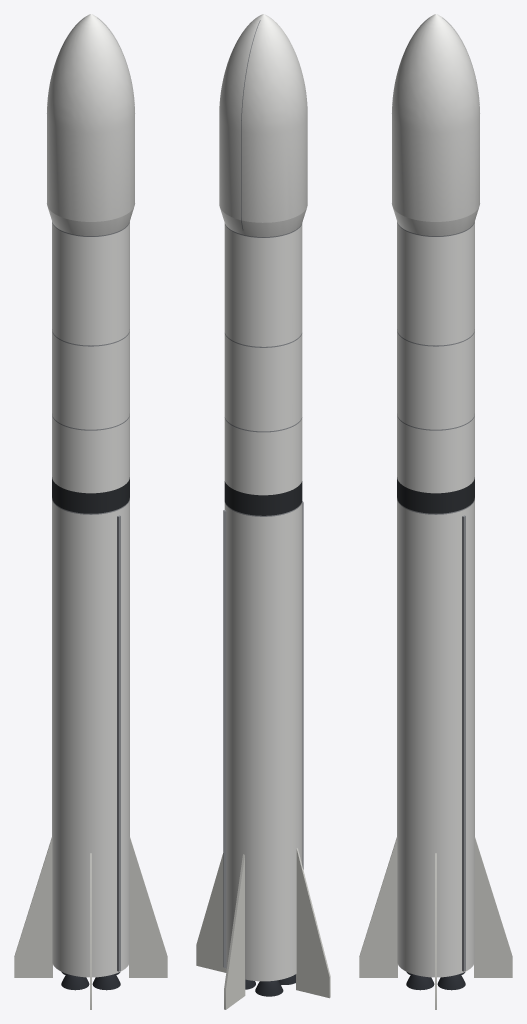
The picture shows the model from 3 angles, left to right: view 1: azimuth 90°, elevation 25°; view 2: azimuth 150°, elevation 25°; view 3: azimuth 270°, elevation 25°; orthographic projection.
Visible parts, largest first — view 1: lm4c; view 2: lm4c; view 3: lm4c.
Boxes of the visible parts, <box> form: lm4c: <box>14,14,167,1009</box>; lm4c: <box>196,14,330,1009</box>; lm4c: <box>359,14,512,1009</box>.
Bounding box in the file's own units: 6.6 × 45.8 × 6.6.
Materials: 1 (1 with a texture image).
